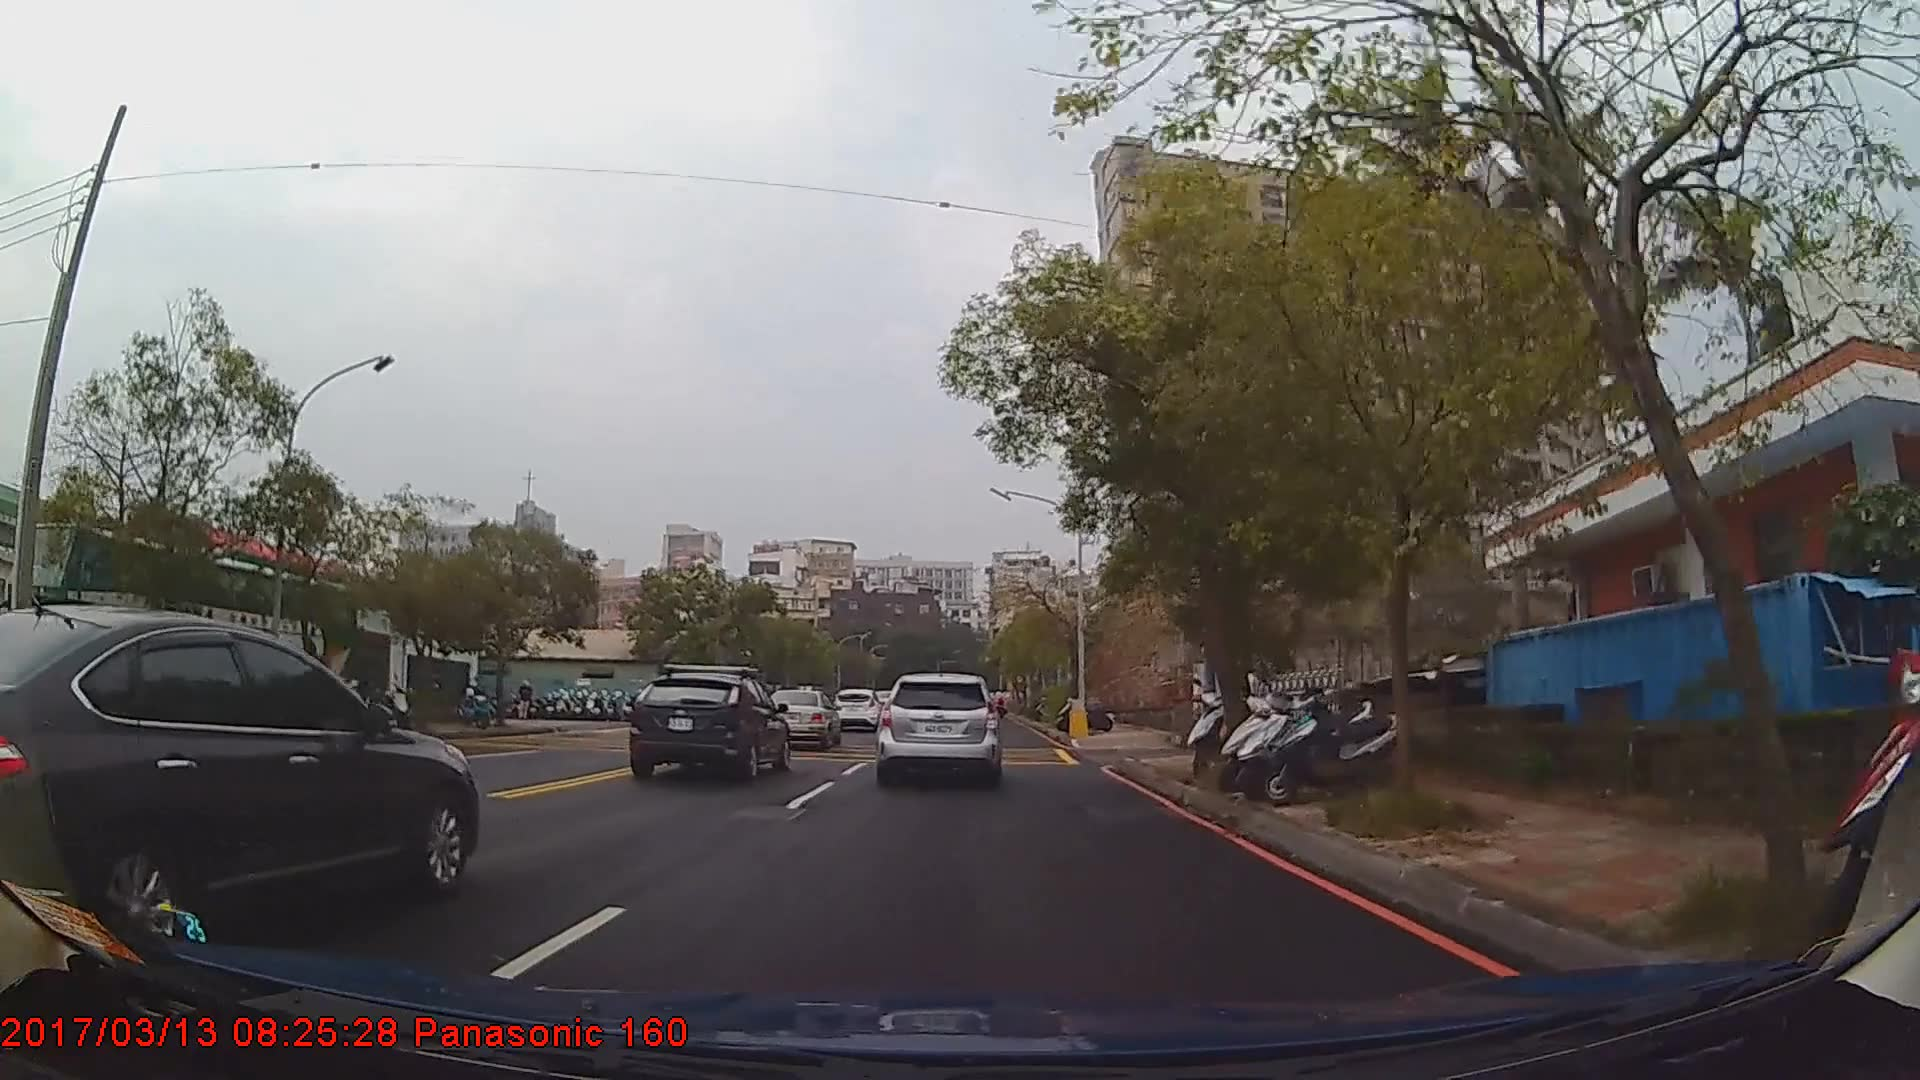vehicle: (0, 601, 477, 953), (0, 520, 353, 745), (626, 669, 791, 783), (876, 671, 1000, 790), (761, 686, 841, 746), (831, 688, 884, 732)
